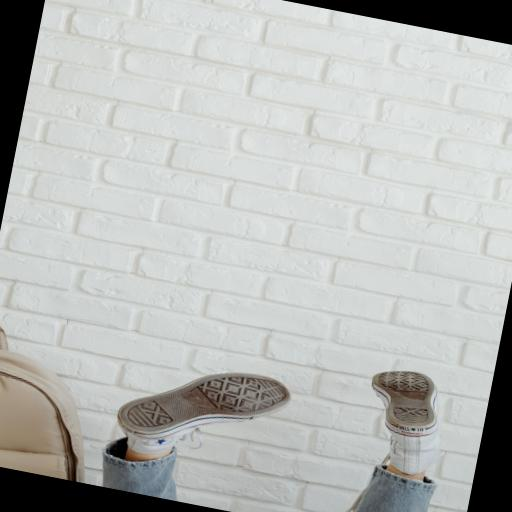shoe: (118, 373, 290, 454), (372, 372, 440, 475)
